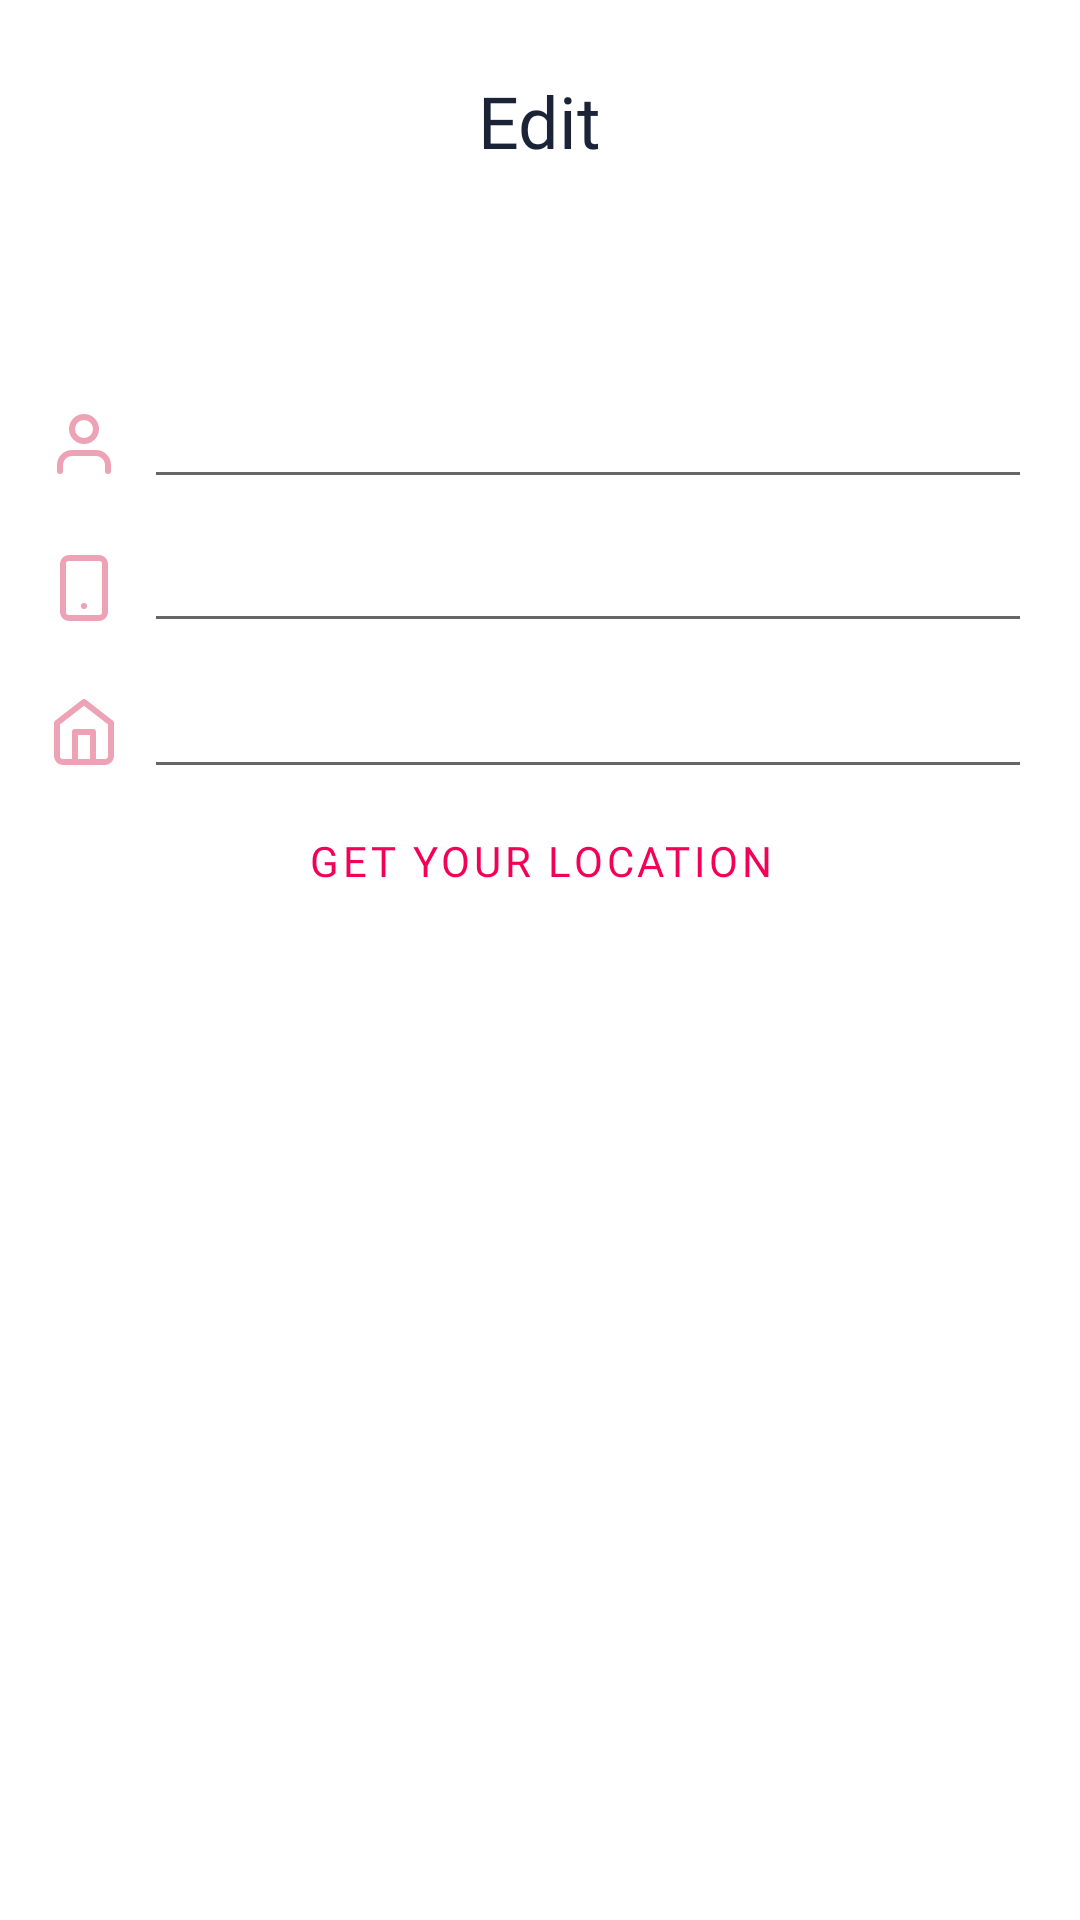

Where to tap for icons on this 1080w x 1920h app screen, as (x,y):
address: (84,732)
Full Name: (84,444)
Phone: (84,588)
